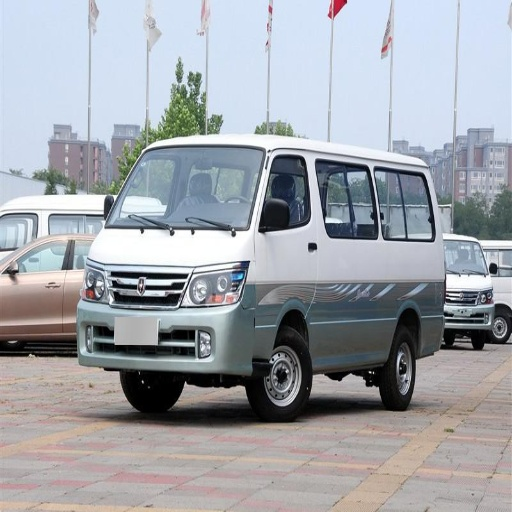front_bumper: (79, 264, 279, 372)
front_glass: (107, 147, 265, 230)
front_left_door: (261, 153, 318, 258)
trunk: (309, 244, 472, 367)
